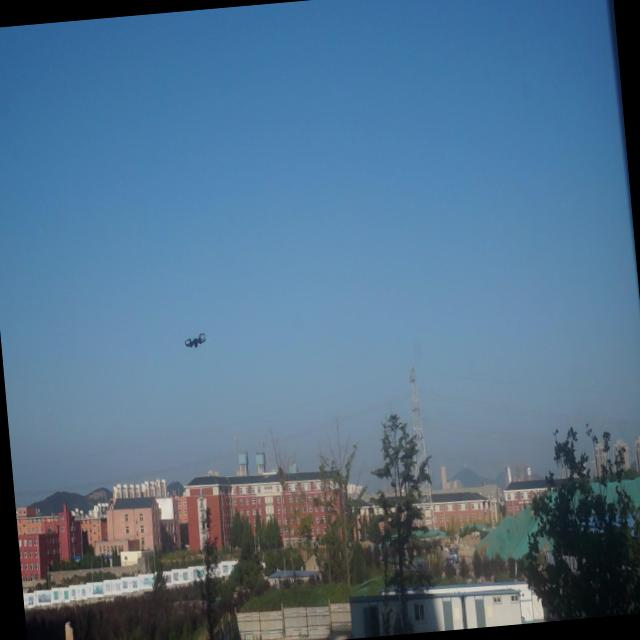drone: (183, 328, 210, 352)
